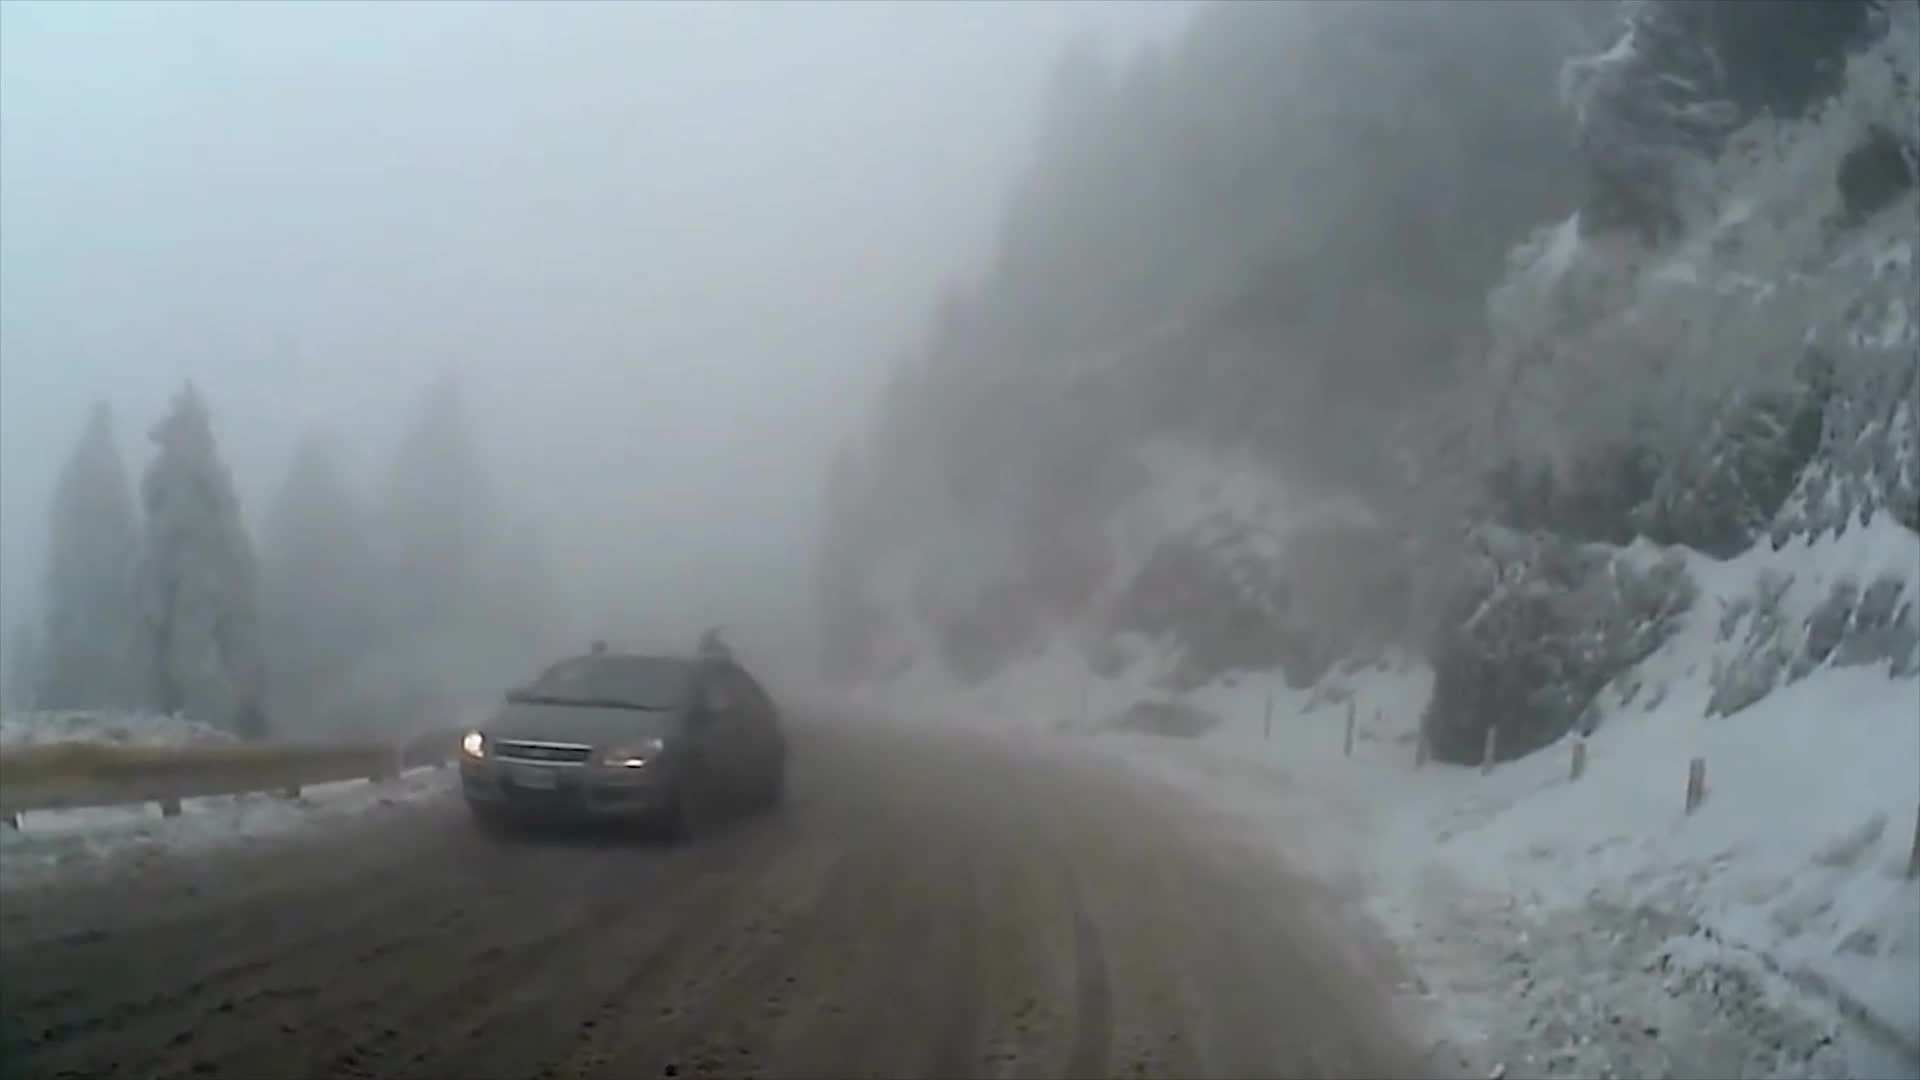vehicle: (458, 647, 785, 841)
